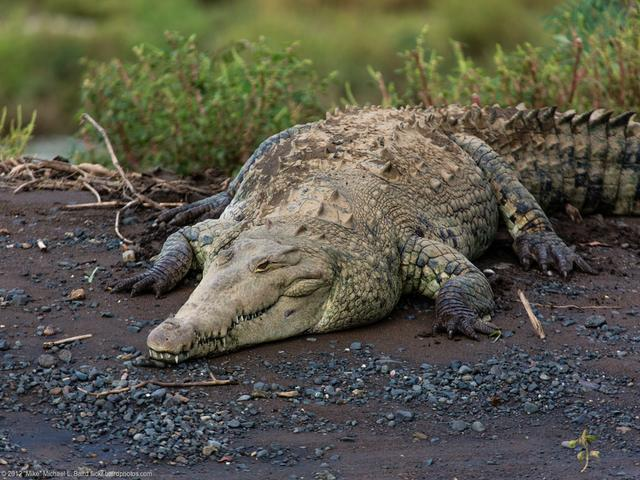crocodile: (88, 75, 623, 372)
